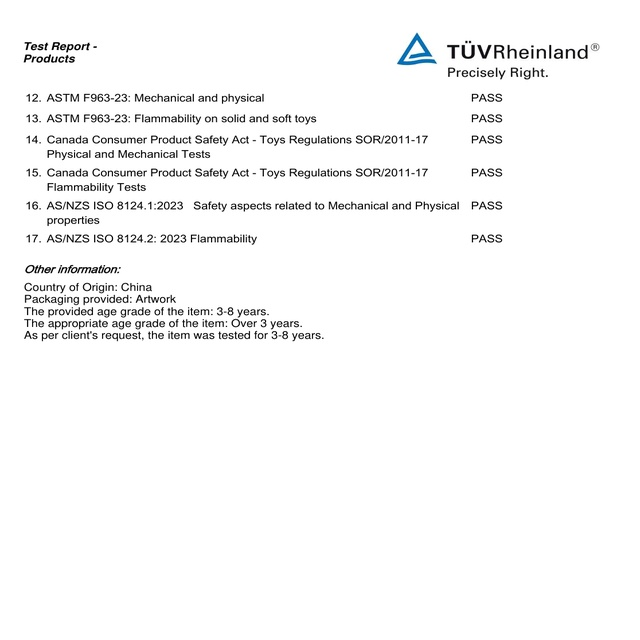tuv_rheinland: (393, 28, 606, 70)
